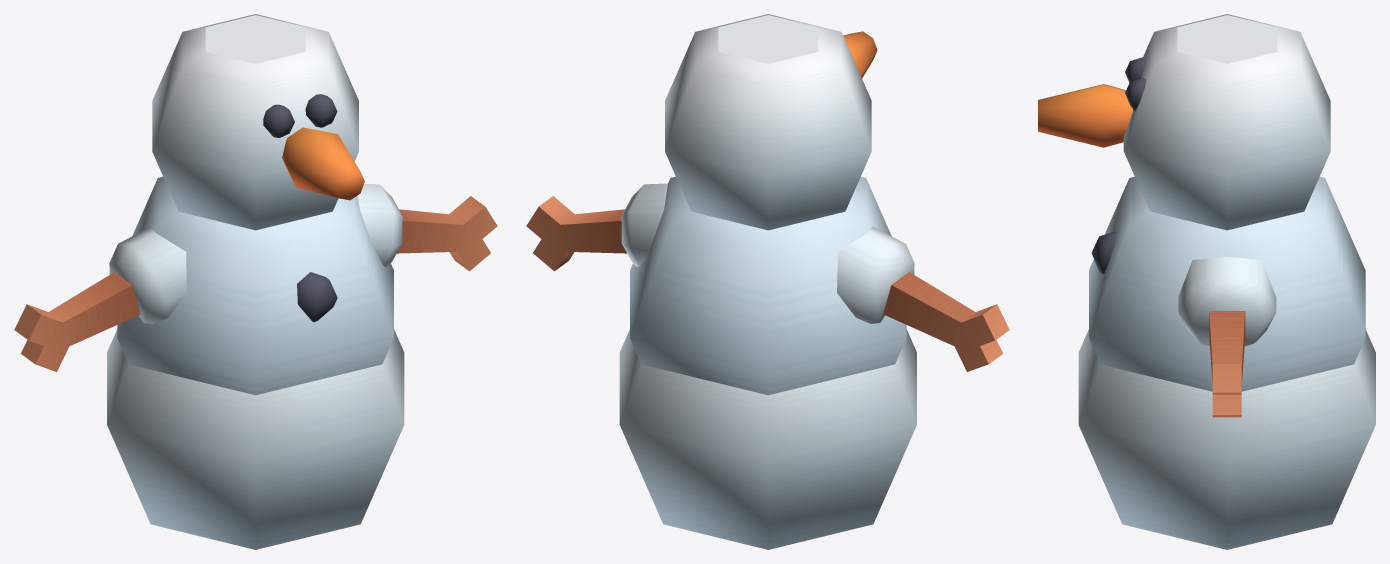
The model's file is snowman.glb.
3 renders of one model, left to right at view 1: azimuth 30°, elevation 25°; view 2: azimuth 150°, elevation 25°; view 3: azimuth 270°, elevation 25°, orthographic.
Parts seen in each view (by area): view 1: snowman; view 2: snowman; view 3: snowman.
Boxes of the visible parts, bbox=[...] form: snowman: bbox=[14, 14, 497, 549]; snowman: bbox=[526, 14, 1009, 549]; snowman: bbox=[1038, 14, 1375, 549].
Bounding box in the file's own units: 3.31 × 3.19 × 2.06.
Materials: 1 (1 with a texture image).
